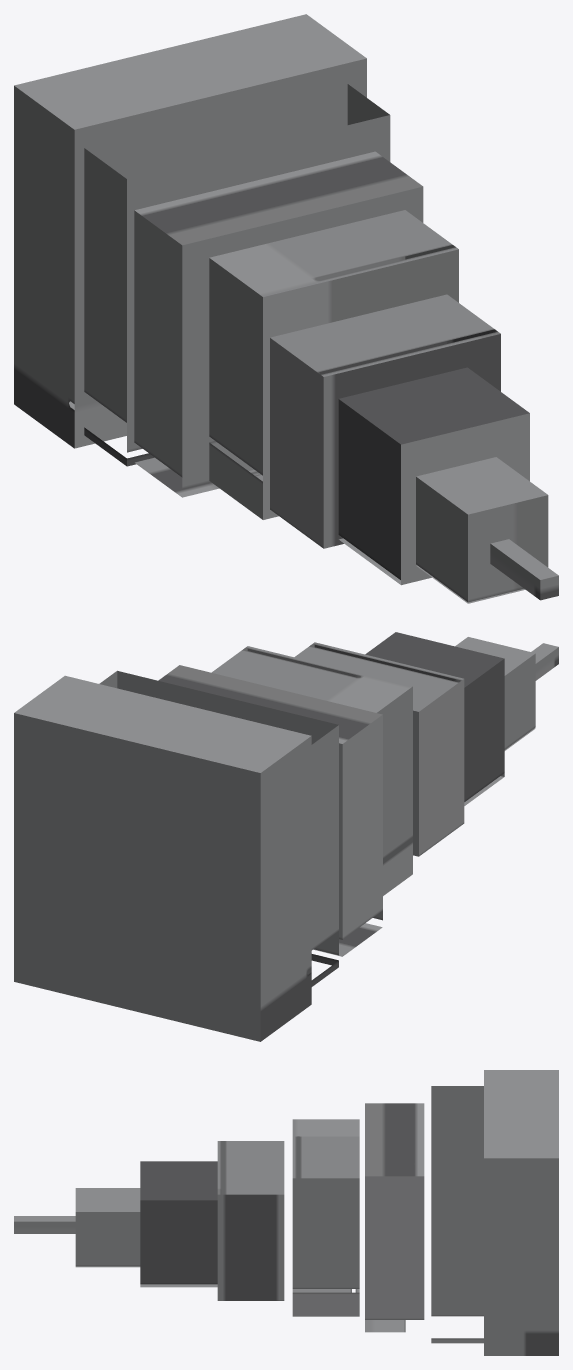
3 views of the same model, one above another, from view 1: azimuth 30°, elevation 25°; view 2: azimuth 150°, elevation 25°; view 3: azimuth 270°, elevation 25° (orthographic). The views are drawn at different scales.
Size of the model in its own units: 0.9345 by 0.9734 by 2.44.
